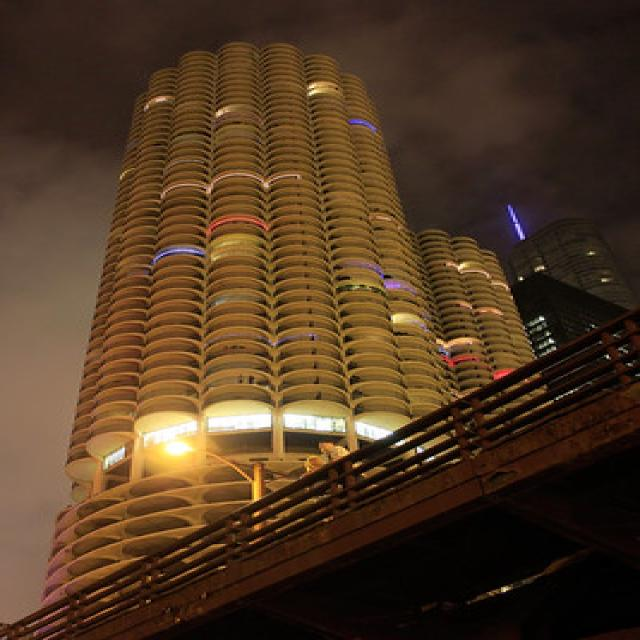building: (39, 36, 464, 588)
